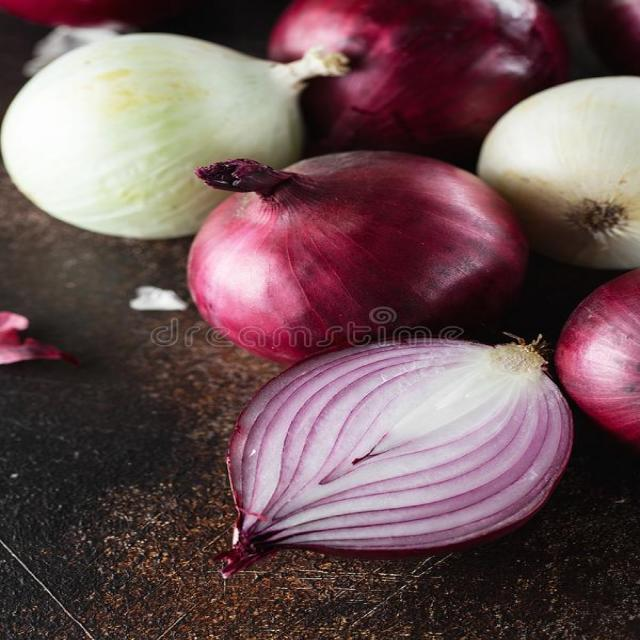onion: (218, 330, 579, 561), (185, 149, 532, 362), (2, 30, 345, 242), (477, 75, 640, 270)
